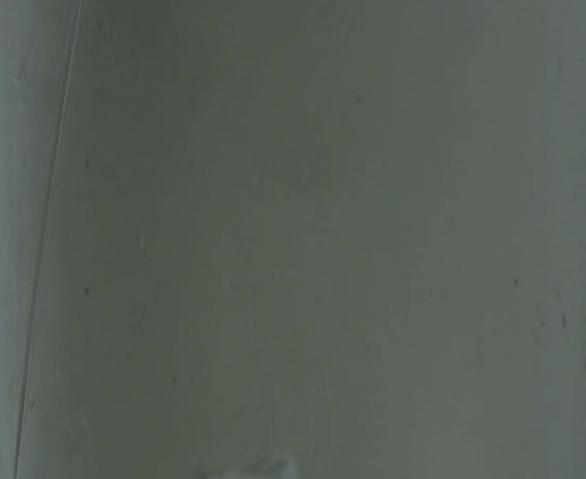sunshang: (4, 7, 109, 479)
